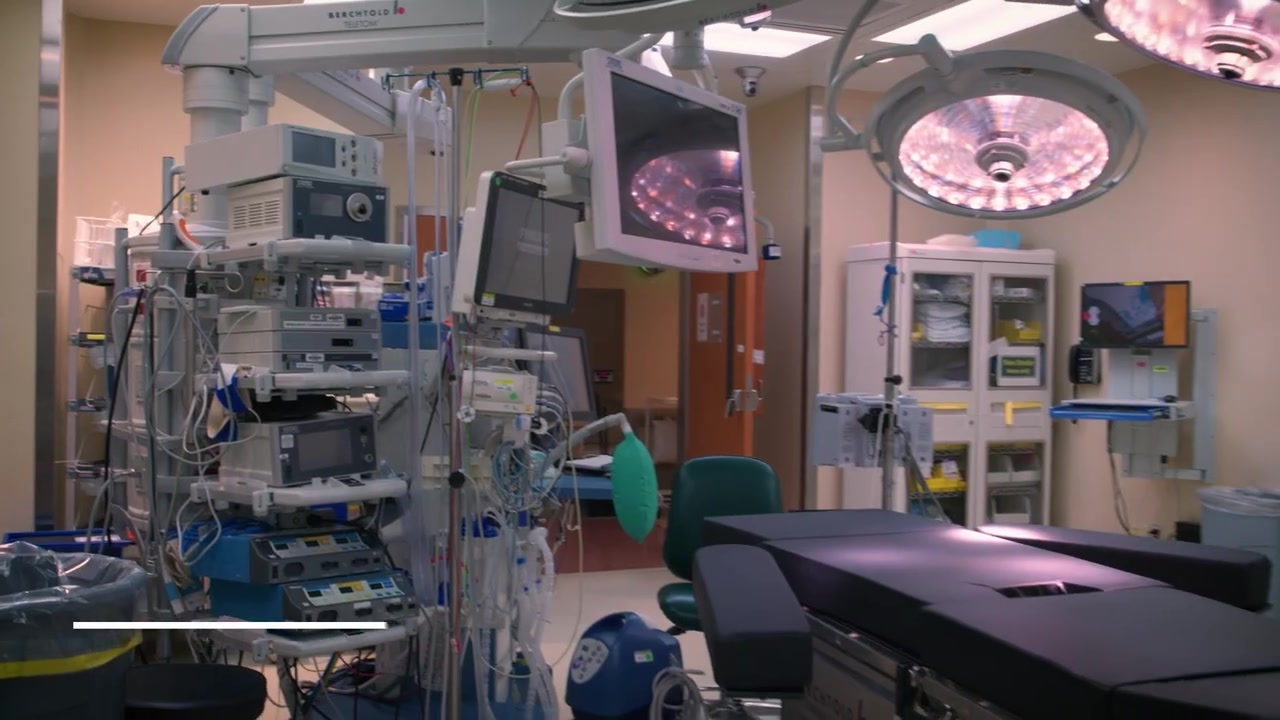bedside_monitor: (581, 48, 760, 272), (473, 170, 586, 317)
cabinet: (851, 244, 1048, 531)
chair: (657, 455, 781, 632), (123, 663, 267, 720)
computer: (521, 321, 599, 420), (1080, 280, 1191, 349)
door_handle: (750, 384, 769, 417), (722, 387, 741, 420)
electrosurgical_unit: (169, 519, 398, 588), (190, 567, 425, 632)
iv_pole: (380, 65, 529, 720), (137, 263, 247, 418)
keyboard: (1060, 403, 1172, 422)
mouse: (1164, 395, 1177, 403)
operating_bed: (690, 507, 1280, 720)
surgical_light: (864, 34, 1148, 220), (1073, 1, 1280, 74)
telephone: (1068, 344, 1102, 384)
waste_bin: (1, 541, 148, 720), (1194, 486, 1280, 606)
